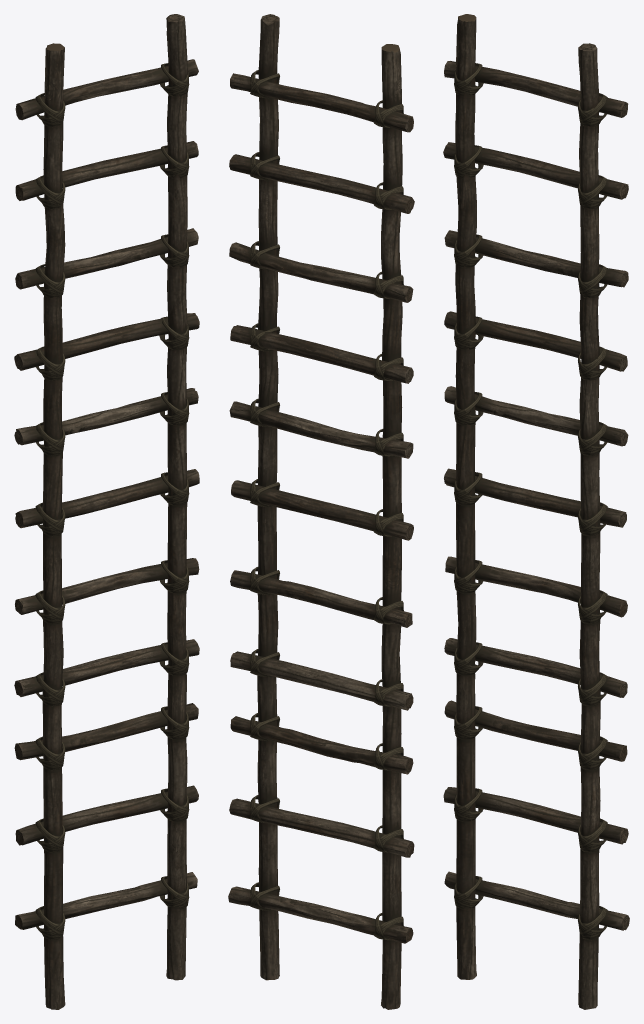
File: SM_ladder_00.fbx
3 views of the same model, side by side, from view 1: azimuth 30°, elevation 25°; view 2: azimuth 150°, elevation 25°; view 3: azimuth 330°, elevation 25° (orthographic).
Parts seen in each view (by area): view 1: SM_Ladder_00; view 2: SM_Ladder_00; view 3: SM_Ladder_00.
Part boxes in pixels (bbox=[...]): SM_Ladder_00: bbox=[14, 14, 199, 1009]; SM_Ladder_00: bbox=[228, 14, 414, 1009]; SM_Ladder_00: bbox=[443, 14, 629, 1009].
Bounding box in the file's own units: 87.79 × 455 × 17.55.
Materials: 1 (1 with a texture image).
